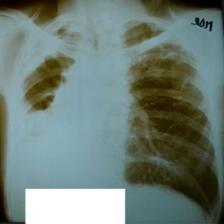tuberculosis: (7, 12, 224, 224)
